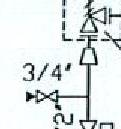psv: (78, 1, 108, 36)
valve: (35, 88, 57, 103)
